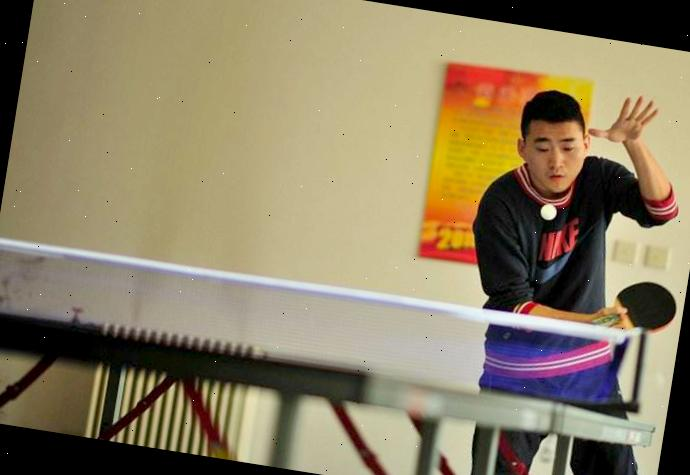ball: (534, 198, 560, 224)
